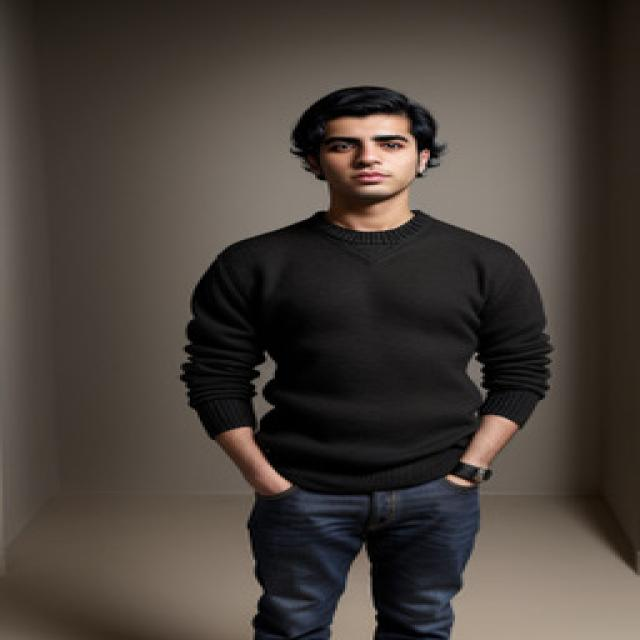Ai human 2: (171, 58, 589, 640)
